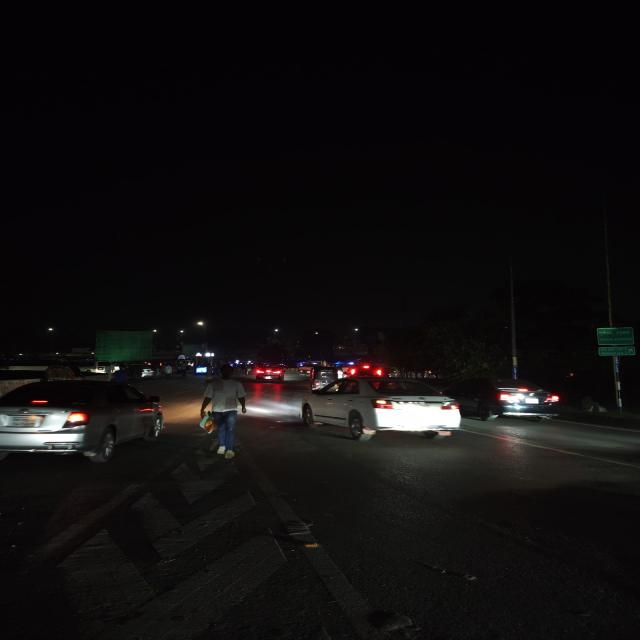car: (0, 378, 167, 466), (297, 374, 463, 444), (450, 375, 561, 423), (248, 362, 286, 384)
cng: (306, 365, 340, 387)
pedestrian: (192, 366, 251, 458)
